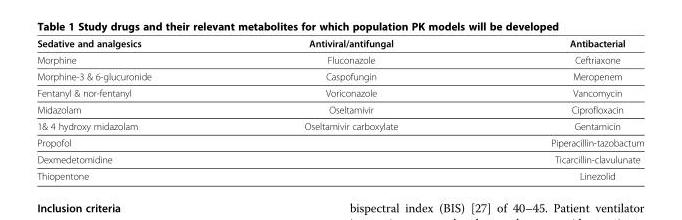table: (36, 37, 643, 181)
table column: (227, 37, 473, 181), (36, 37, 227, 181), (473, 37, 643, 181)
table column header: (36, 37, 643, 51)
table row: (36, 67, 643, 84), (36, 84, 643, 101), (36, 117, 643, 134), (36, 150, 643, 167), (36, 51, 643, 67), (36, 101, 643, 117), (36, 134, 643, 150), (36, 37, 643, 51), (36, 167, 643, 181)
